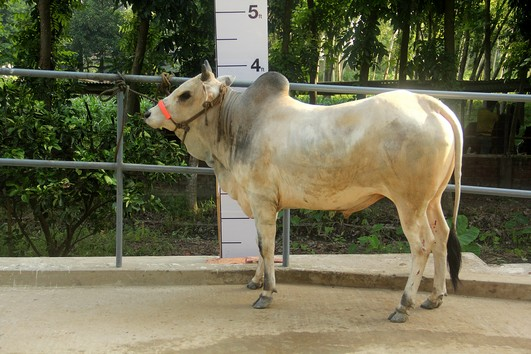cow: (133, 57, 473, 329)
